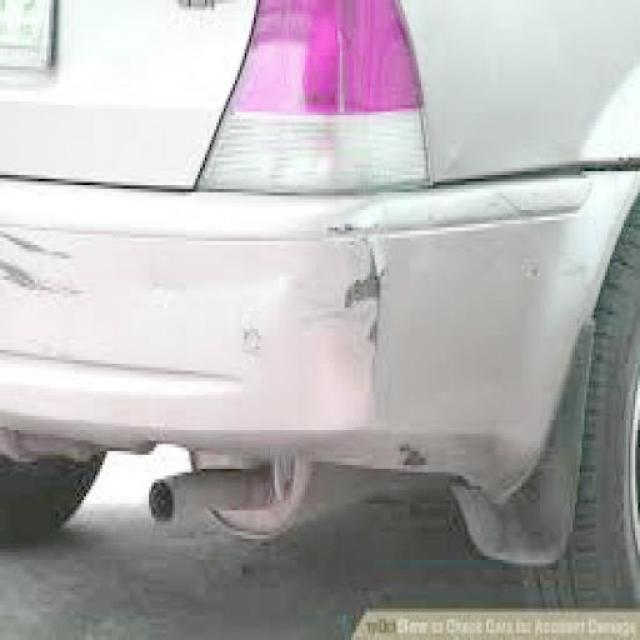car damage: (297, 196, 396, 409), (2, 230, 104, 309), (232, 307, 270, 369), (396, 435, 436, 478)
